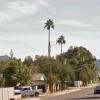Palm tree: (37, 12, 69, 59)
